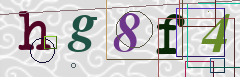4: (200, 12, 230, 52)
8: (112, 11, 141, 53)
f: (155, 12, 186, 55)
g: (66, 13, 98, 53)
h: (17, 9, 52, 52)
